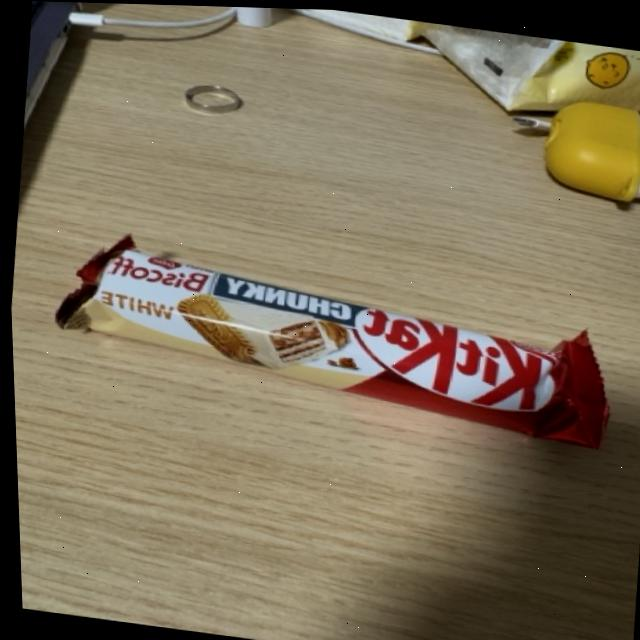chocolate: (40, 223, 617, 447)
